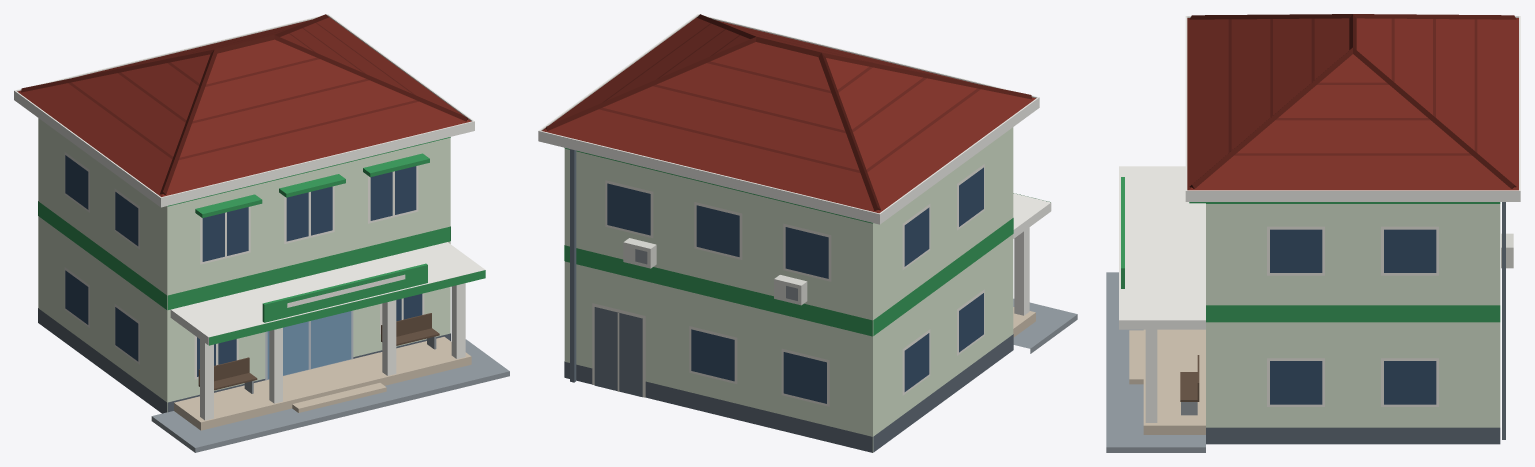
File: kantor_07.glb
The picture shows the model from 3 angles, left to right: view 1: azimuth 30°, elevation 25°; view 2: azimuth 150°, elevation 25°; view 3: azimuth 270°, elevation 25°; orthographic projection. The views are drawn at different scales.
Parts seen in each view (by area): view 1: kantor_07; view 2: kantor_07; view 3: kantor_07.
Part boxes in pixels (box(x1,y1,x2,y2)): kantor_07: box(14, 14, 509, 452); kantor_07: box(538, 14, 1077, 452); kantor_07: box(1106, 14, 1520, 452).
Bounding box in the file's own units: 10 × 8.91 × 9.99.
